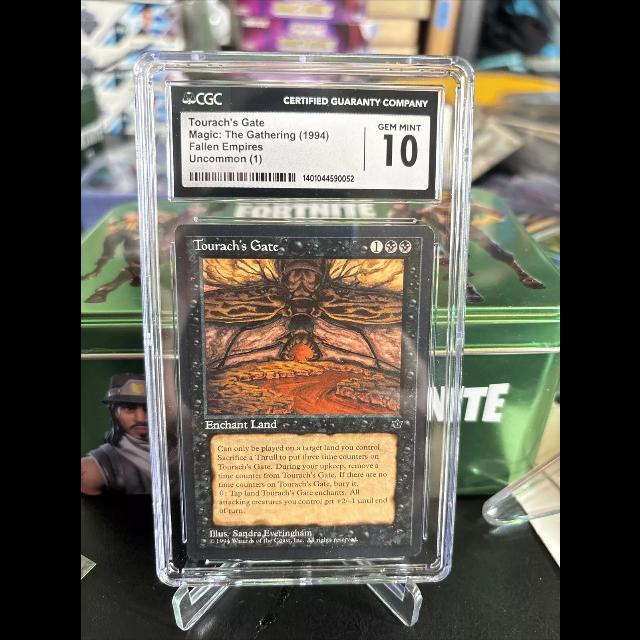card: (173, 223, 435, 560)
cgc_label: (169, 84, 438, 200)
cgc_slab: (132, 50, 476, 589)
